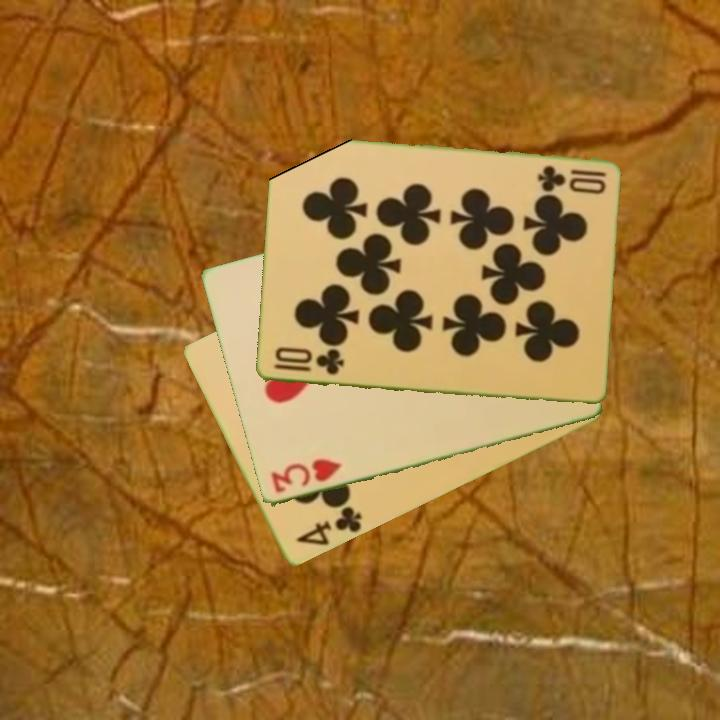10c: (269, 344, 346, 378), (534, 162, 608, 192)
3h: (267, 455, 345, 497)
4c: (292, 500, 365, 550)
